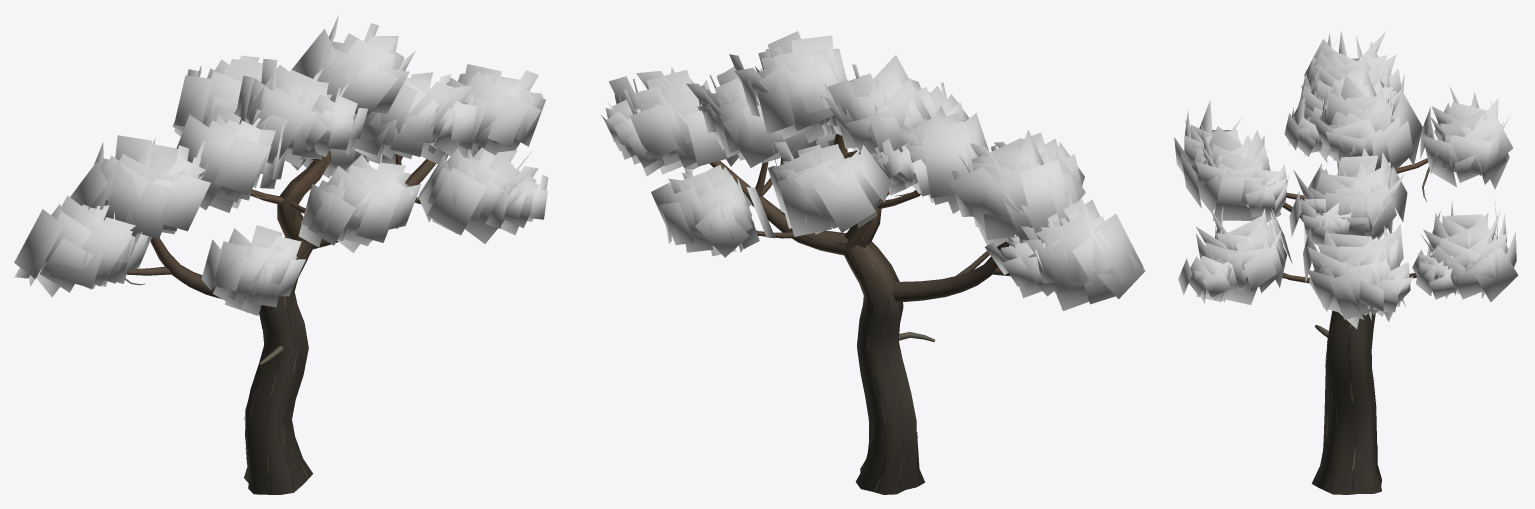
The picture shows the model from 3 angles, left to right: view 1: azimuth 30°, elevation 25°; view 2: azimuth 150°, elevation 25°; view 3: azimuth 270°, elevation 25°; orthographic projection. The views are drawn at different scales.
Visible parts, largest first — view 1: crown, trunk; view 2: crown, trunk; view 3: crown, trunk.
Part boxes in pixels (left/top/right/bottom): crown: left=14, top=15, right=548, bottom=315; trunk: left=125, top=150, right=435, bottom=494; crown: left=600, top=31, right=1145, bottom=310; trunk: left=709, top=133, right=1010, bottom=494; crown: left=1174, top=31, right=1518, bottom=328; trunk: left=1255, top=158, right=1429, bottom=494.
Size of the model in its own units: 11.17 by 8.7 by 5.95.
